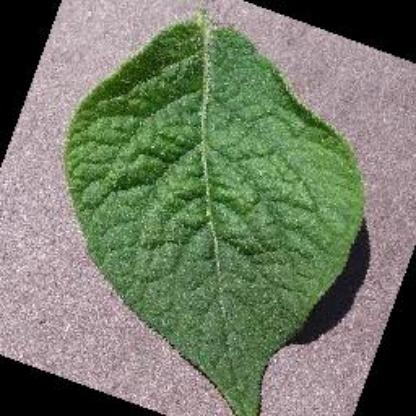Healthy-plant: (58, 4, 372, 416)
